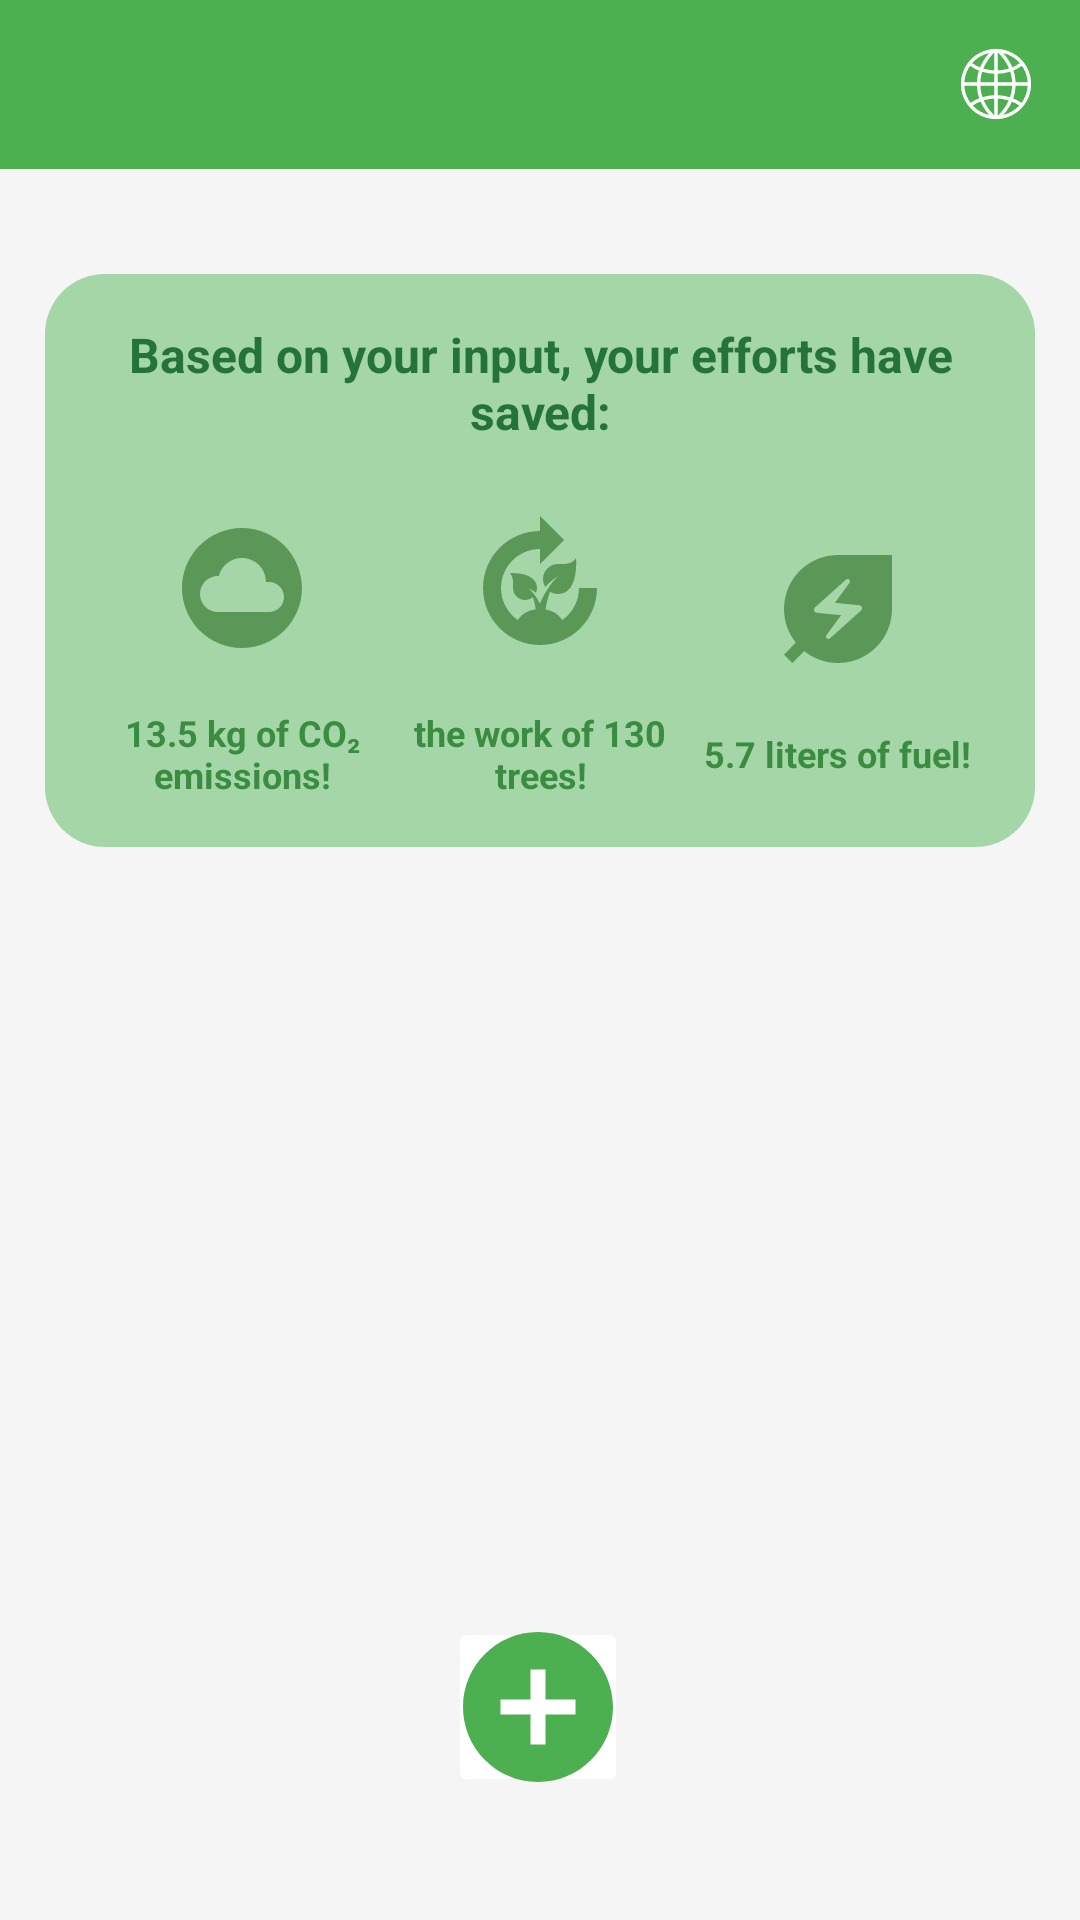

Point at icon controls on the screen. Image size 1080px×1920px, points as point (x, y).
cloud circle: point (242, 588)
compost: point (540, 580)
energy savings leaf: point (838, 609)
globe: point (996, 84)
plus: point (538, 1707)
